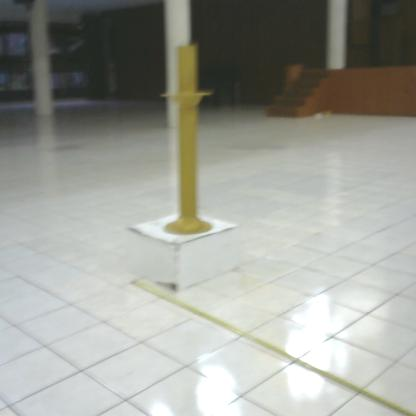pole: (157, 36, 224, 243)
